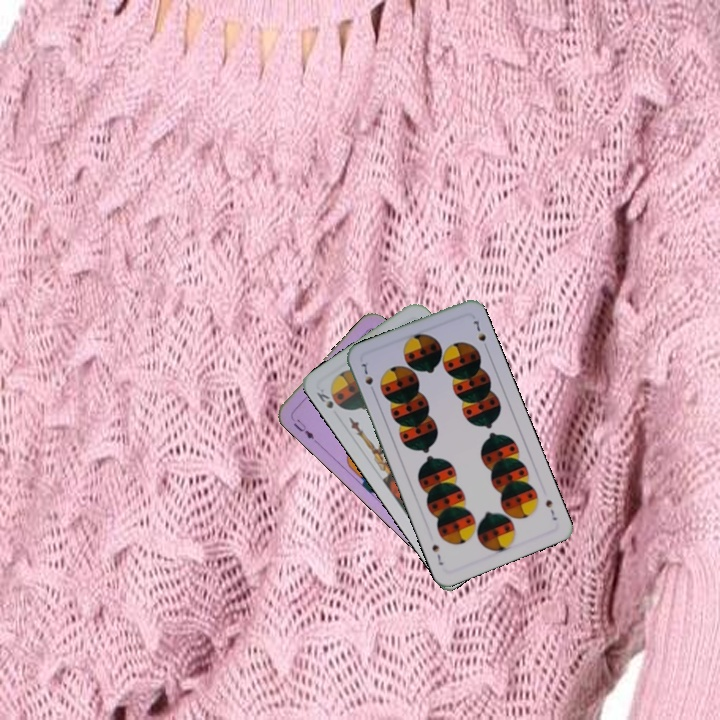EU: (289, 415, 320, 445)
S7: (358, 359, 378, 396), (541, 495, 560, 523)
SK: (312, 384, 336, 411)
